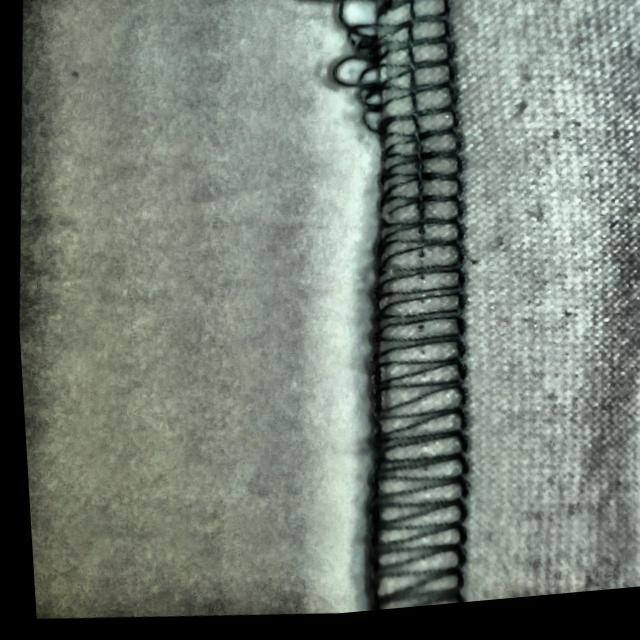Stitch: (269, 0, 472, 151)
